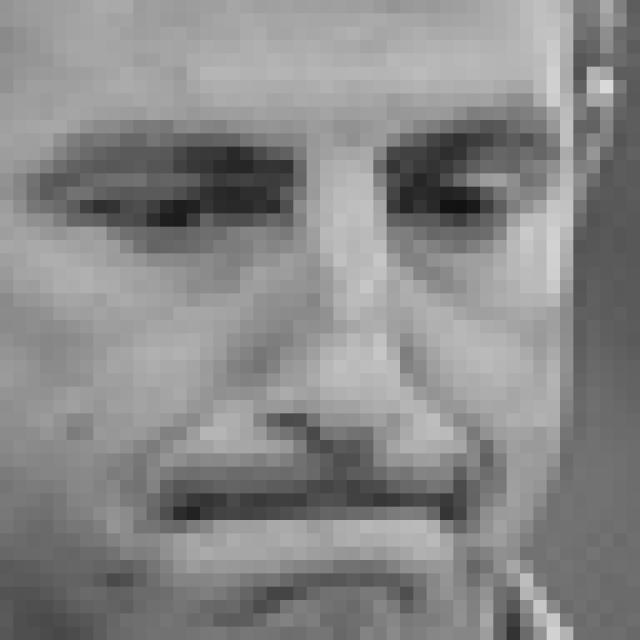sad: (24, 88, 563, 611)
